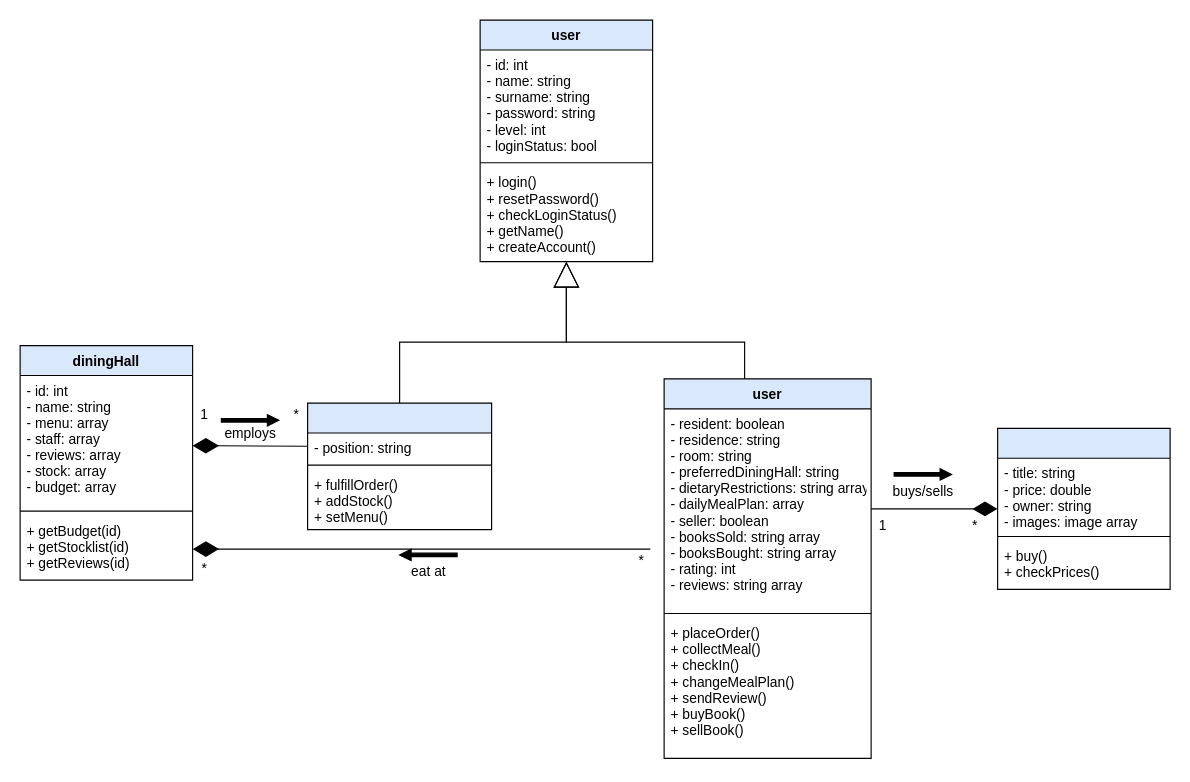
This 1190x782 diagram has some shape labels left out. Here are the shapes that lost their labels. From the top down, the box of each, then its label:
(306, 402, 492, 530): staff
(996, 427, 1170, 589): book
